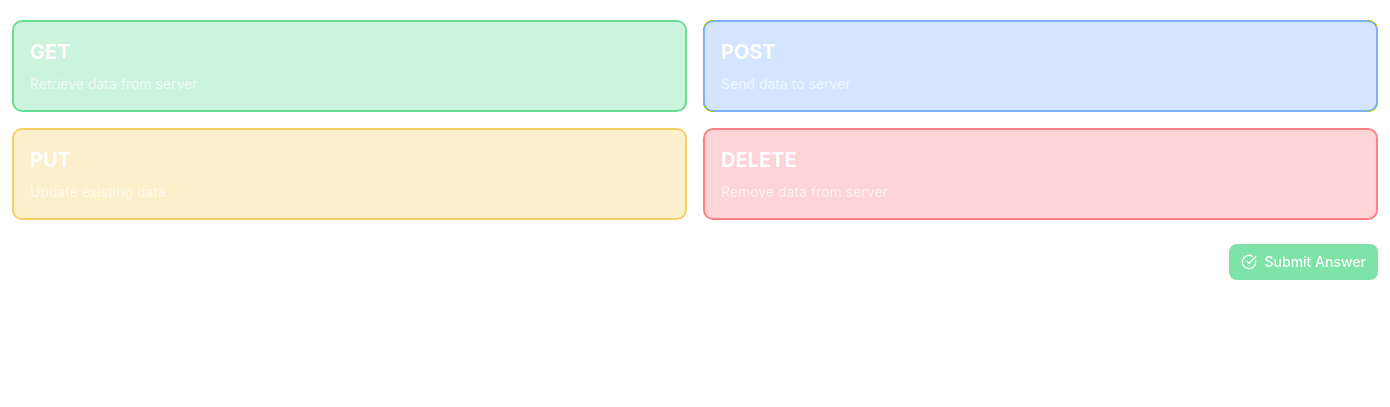
Scenario: SelectMethod › feedback › shows success feedback after correct answer
The image size is (1390, 407).
Click the button "GET Retrieve data from server" at (50, 52), box [12,20,687,112]
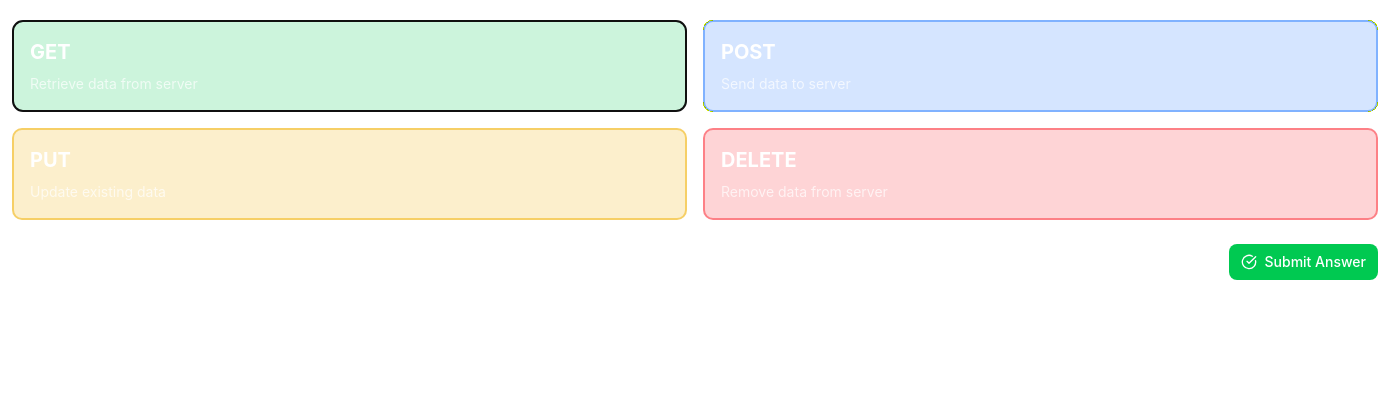
Click the button "Submit Answer" at (1303, 262), box [1228,244,1378,280]
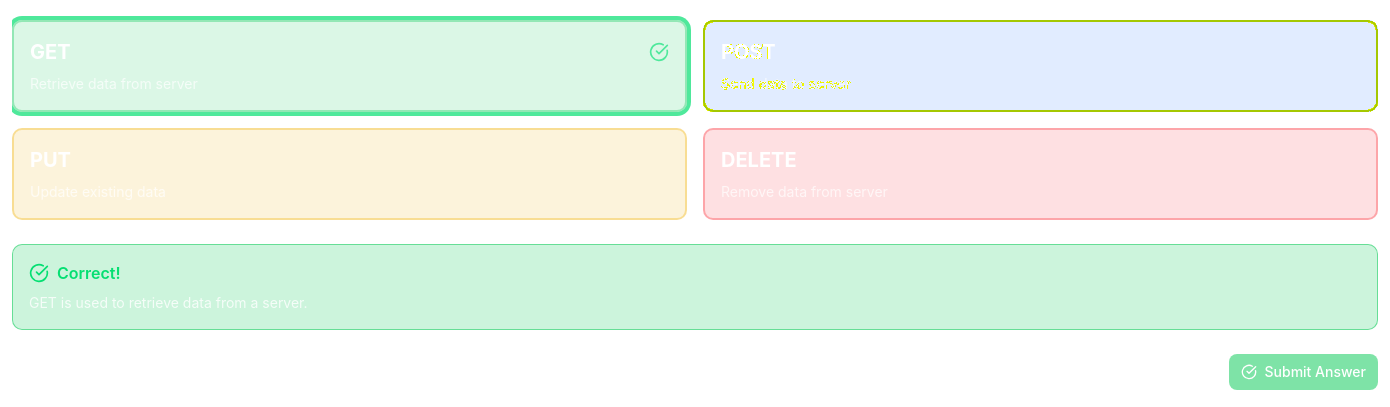
Check: the text "Correct!" is shown, box [57,261,121,285]
Check: the text "GET is used to retrieve data from a server." is shown, box [29,294,308,311]
